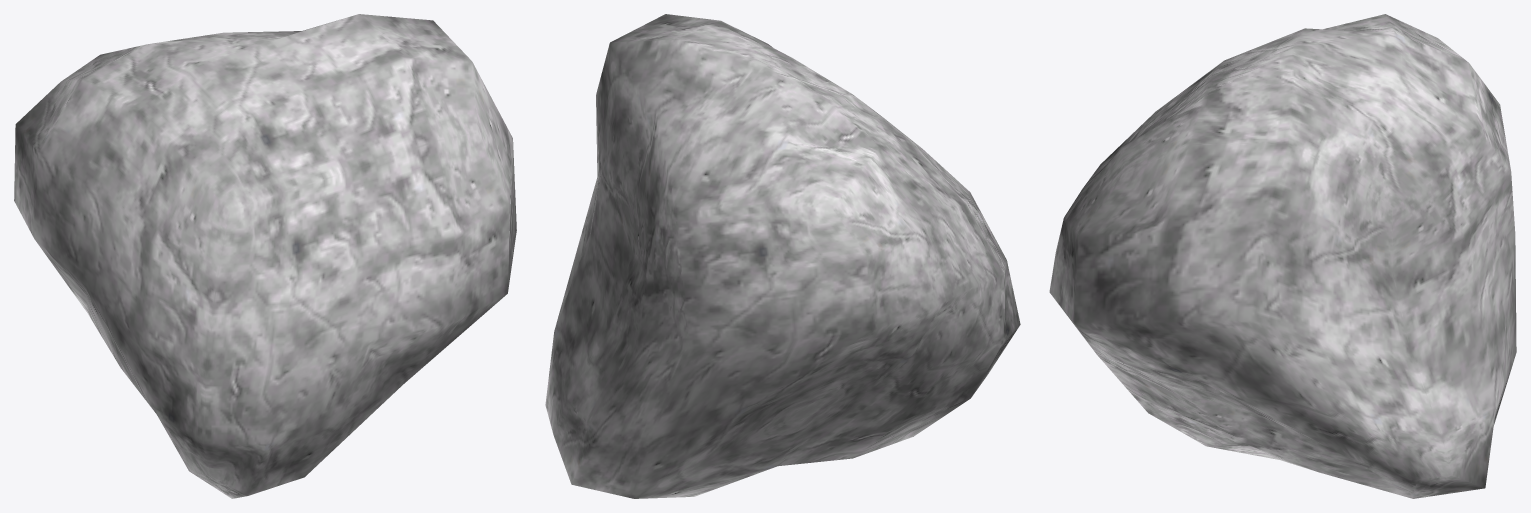
File: INST_SWORDLIGHT_ROCKD.fbx
The picture shows the model from 3 angles, left to right: view 1: azimuth 30°, elevation 25°; view 2: azimuth 150°, elevation 25°; view 3: azimuth 270°, elevation 25°; orthographic projection. The views are drawn at different scales.
Visible parts, largest first — view 1: INST_SWORDLIGHT_ROCKD; view 2: INST_SWORDLIGHT_ROCKD; view 3: INST_SWORDLIGHT_ROCKD.
Boxes of the visible parts, x1,y1,x2,y2 form: INST_SWORDLIGHT_ROCKD: (14,14,516,498); INST_SWORDLIGHT_ROCKD: (545,14,1020,498); INST_SWORDLIGHT_ROCKD: (1049,14,1516,498).
Size of the model in its own units: 20134 by 20134 by 20134.
1 material, 1 textured.
